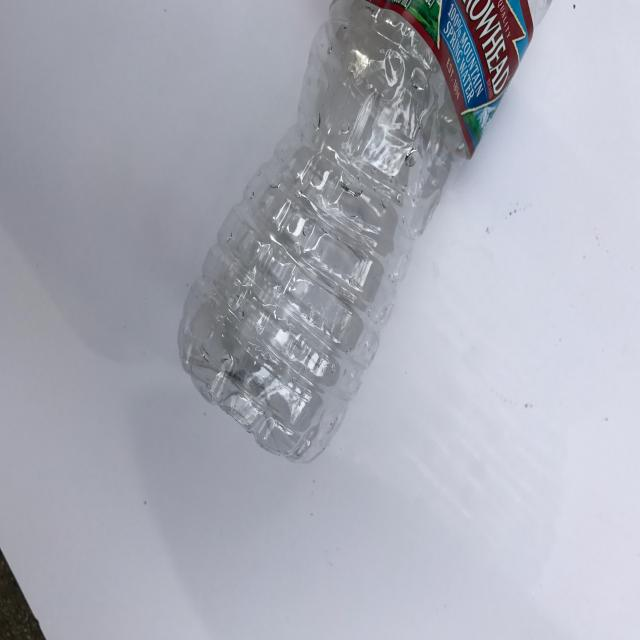plastic: (176, 0, 557, 465)
